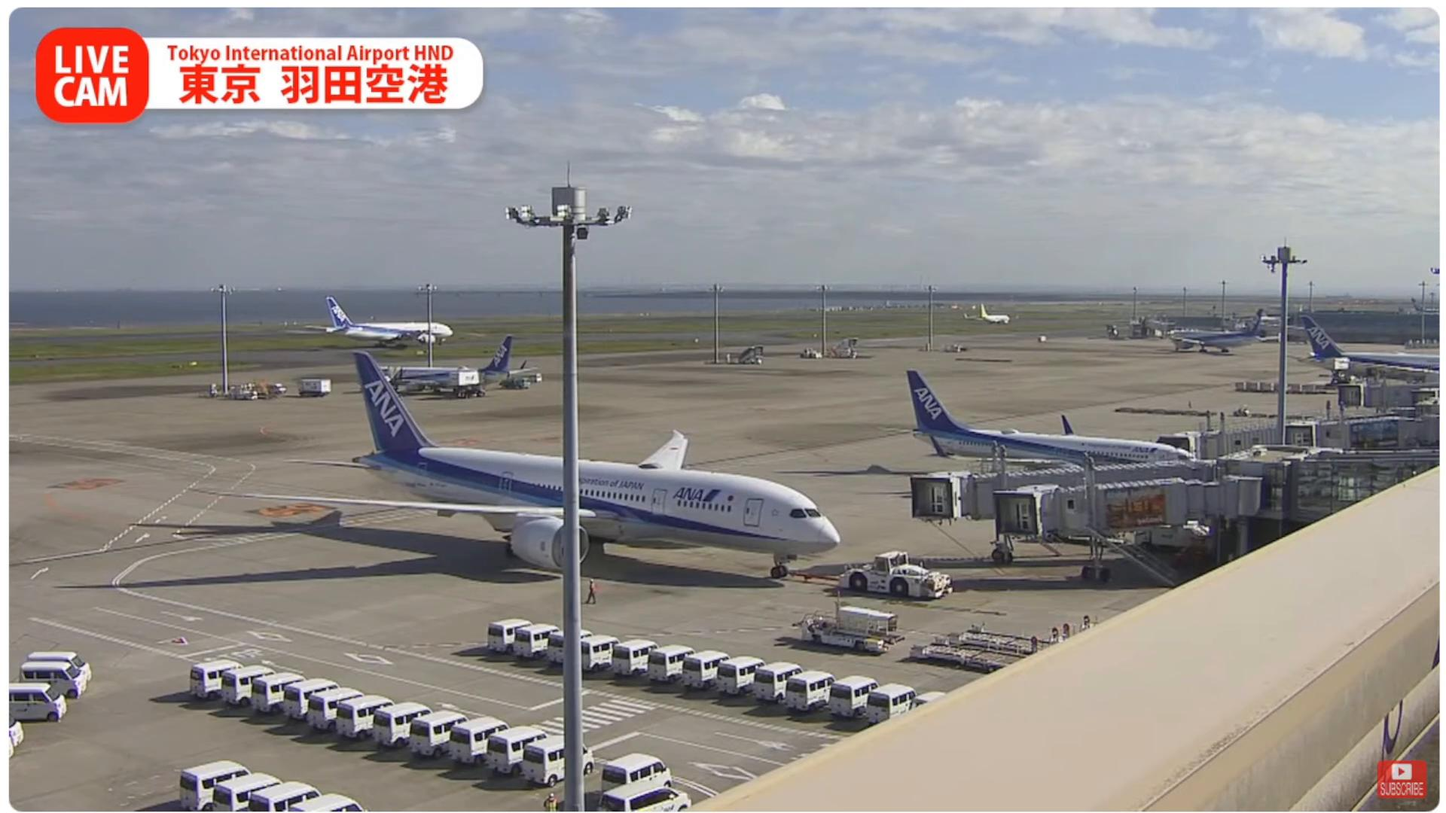APS: (824, 544, 961, 599)
Aerobridge: (909, 459, 1219, 522), (991, 476, 1264, 540)
Airplane: (231, 340, 848, 588)
JCPL: (930, 626, 1059, 654), (911, 641, 1025, 671)
Skyloader: (794, 600, 908, 654)
Window: (1290, 456, 1440, 523)
